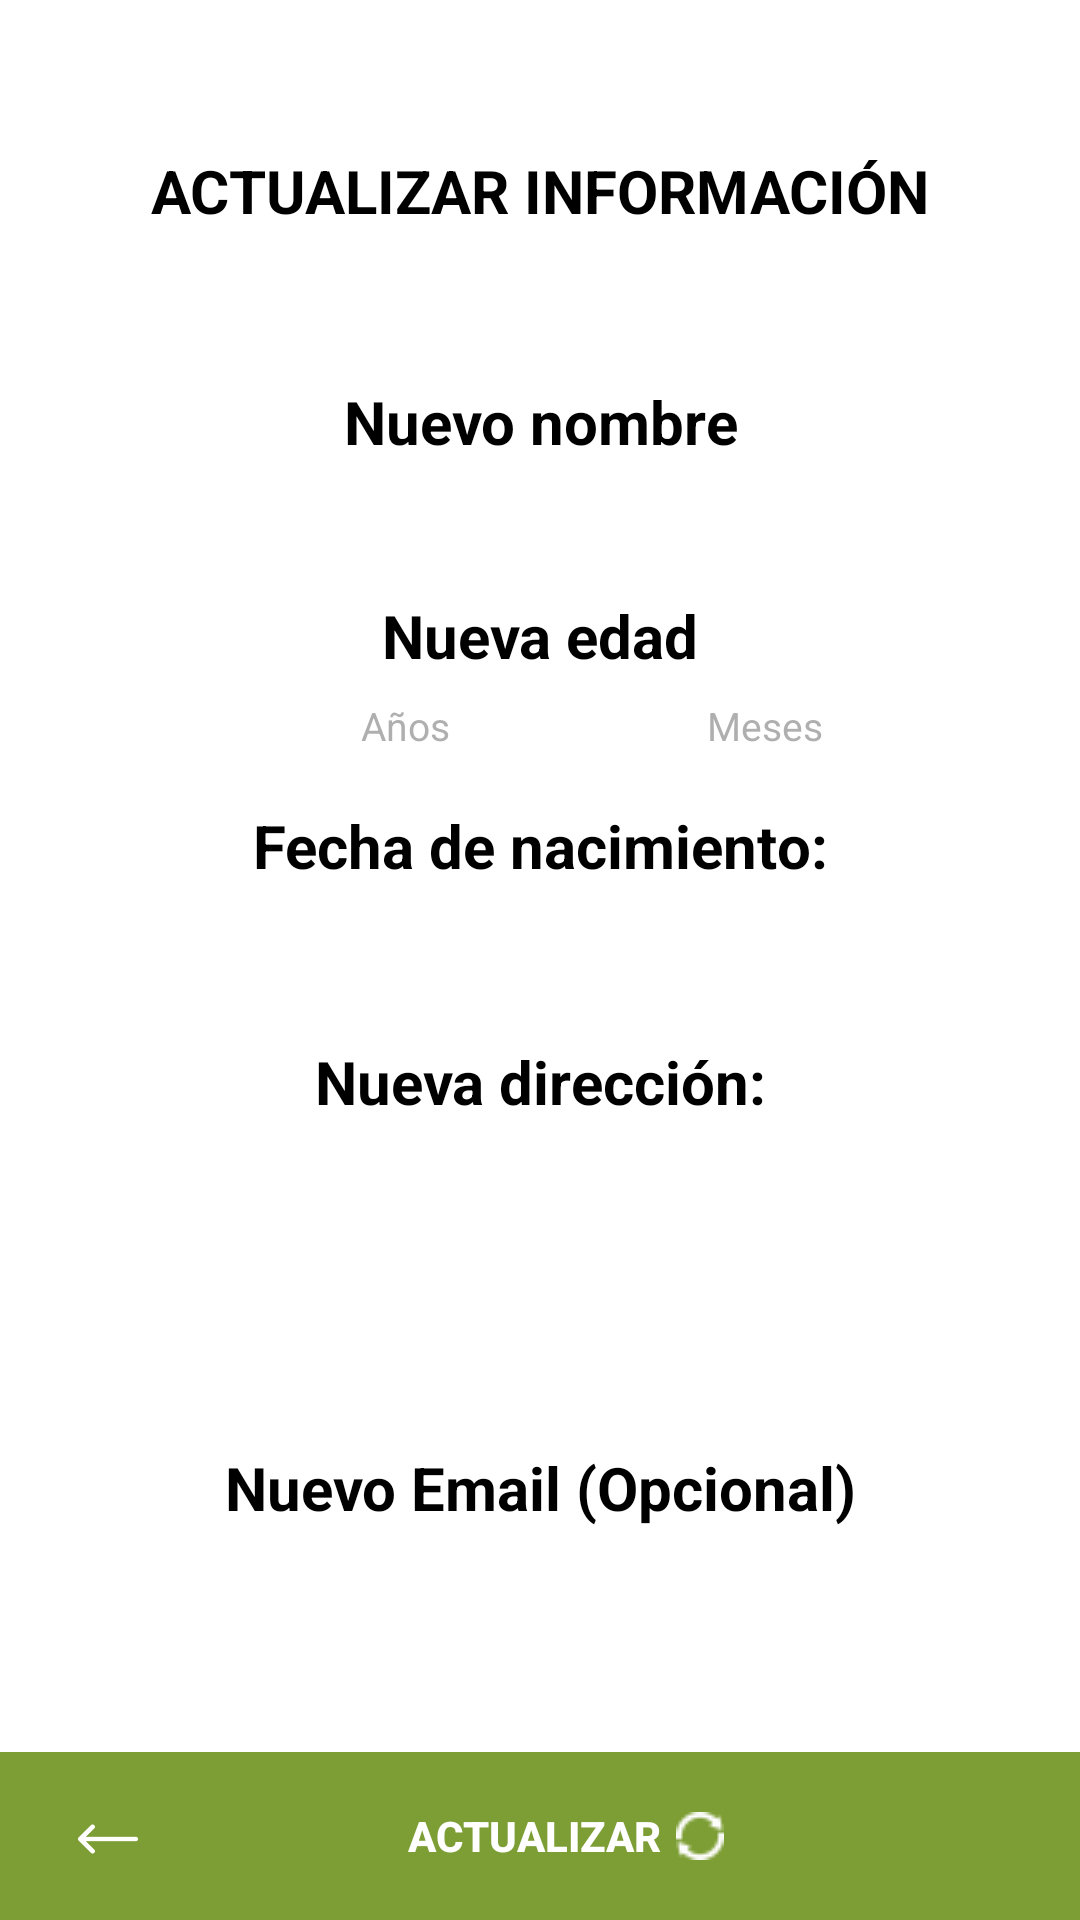

Icons on this 1080×1920 Android screen, each with the point to tap as point (x, y):
regresarflecha: point (108, 1839)
